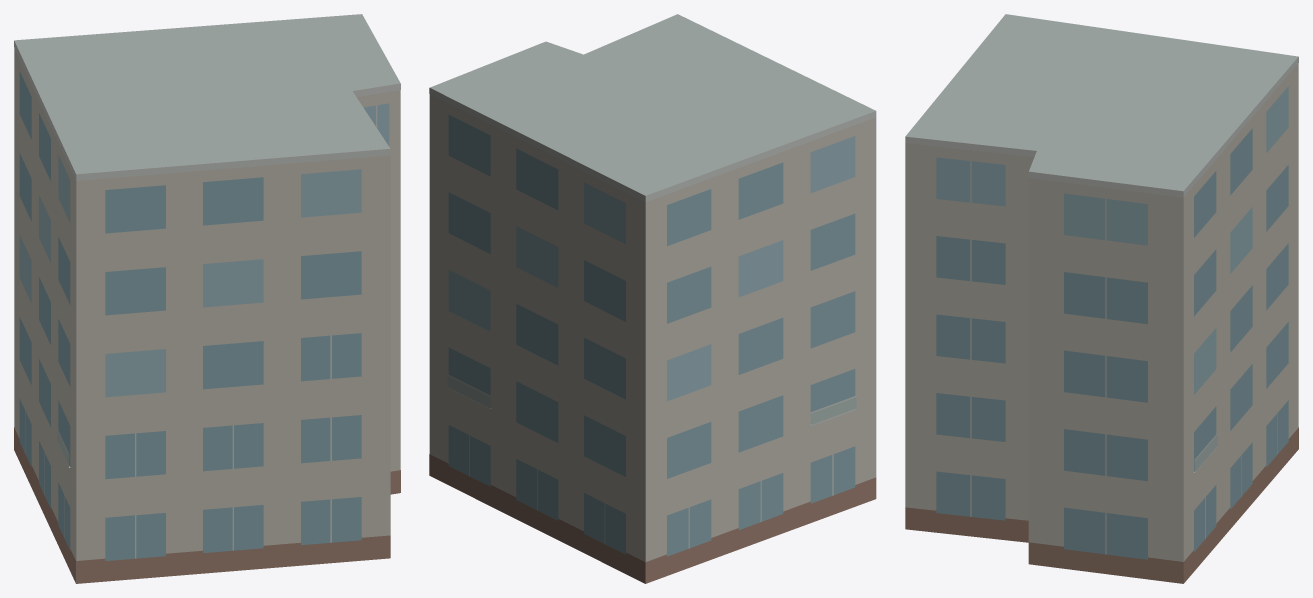
The model's file is survey-upis-32893678.glb.
3 views of the same model, side by side, from view 1: azimuth 30°, elevation 25°; view 2: azimuth 150°, elevation 25°; view 3: azimuth 270°, elevation 25° (orthographic). The views are drawn at different scales.
Visible parts, largest first — view 1: survey-upis-32893678.tmp; view 2: survey-upis-32893678.tmp; view 3: survey-upis-32893678.tmp.
Part boxes in pixels (<box>): survey-upis-32893678.tmp: <box>14,14,400,583</box>; survey-upis-32893678.tmp: <box>429,14,876,583</box>; survey-upis-32893678.tmp: <box>905,14,1298,583</box>.
Size of the model in its own units: 14.43 by 14.9 by 13.54.
